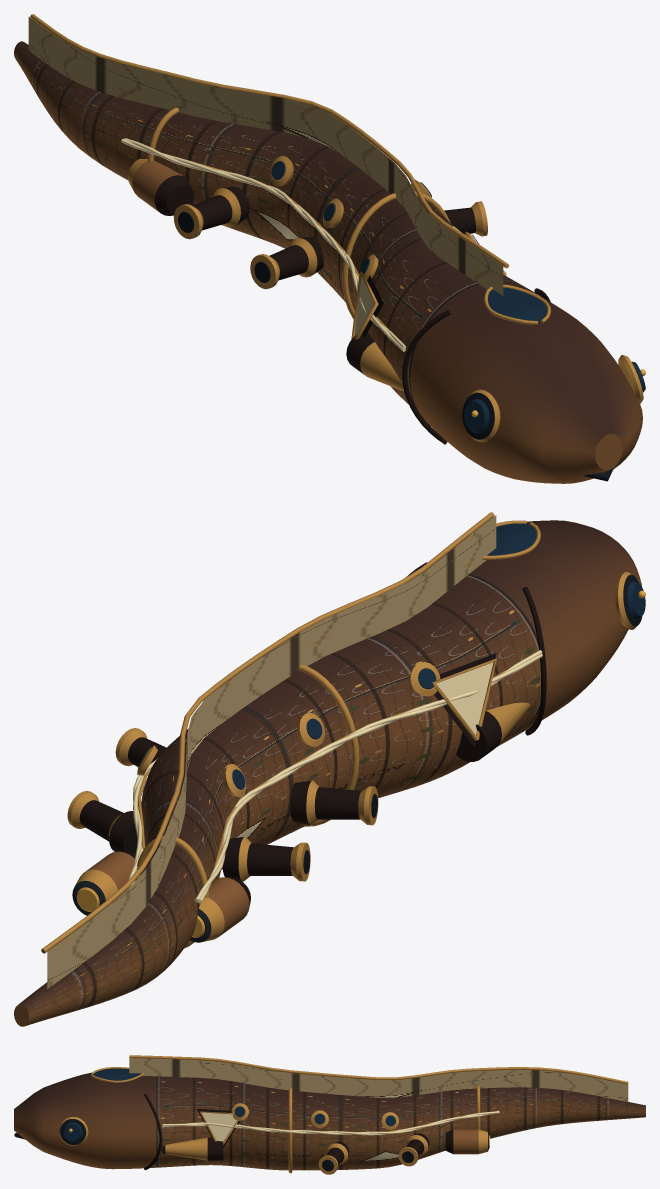
3 renders of one model, top to bottom at view 1: azimuth 30°, elevation 25°; view 2: azimuth 150°, elevation 25°; view 3: azimuth 270°, elevation 25°, orthographic. The views are drawn at different scales.
Parts seen in each view (by area): view 1: moray_hull; view 2: moray_hull; view 3: moray_hull.
Boxes of the visible parts, box(x1,y1,x2,y2) form: moray_hull: box(14, 14, 645, 483); moray_hull: box(14, 512, 645, 1026); moray_hull: box(14, 1055, 645, 1174).
Size of the model in its own units: 10.58 by 7.97 by 42.
1 material, 1 textured.
